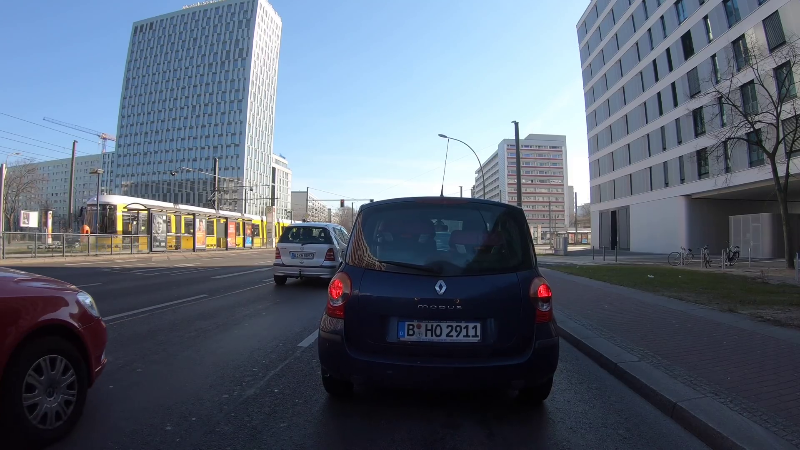Plate: (393, 317, 483, 346), (287, 250, 315, 261)
